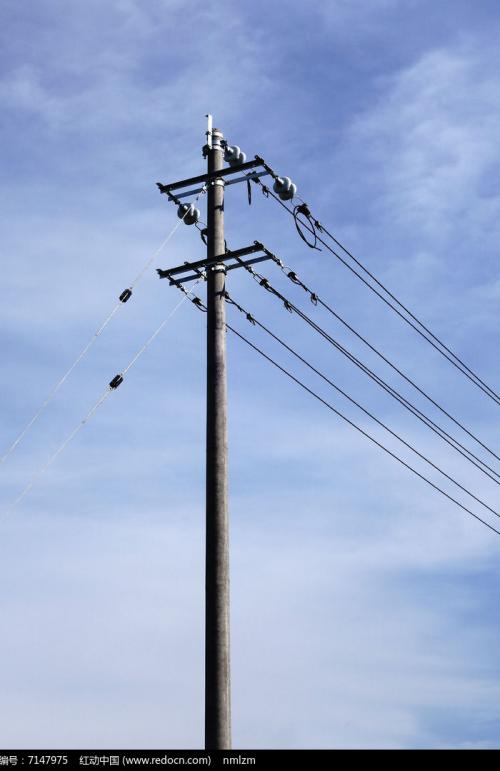utility_pole: (143, 104, 297, 315)
